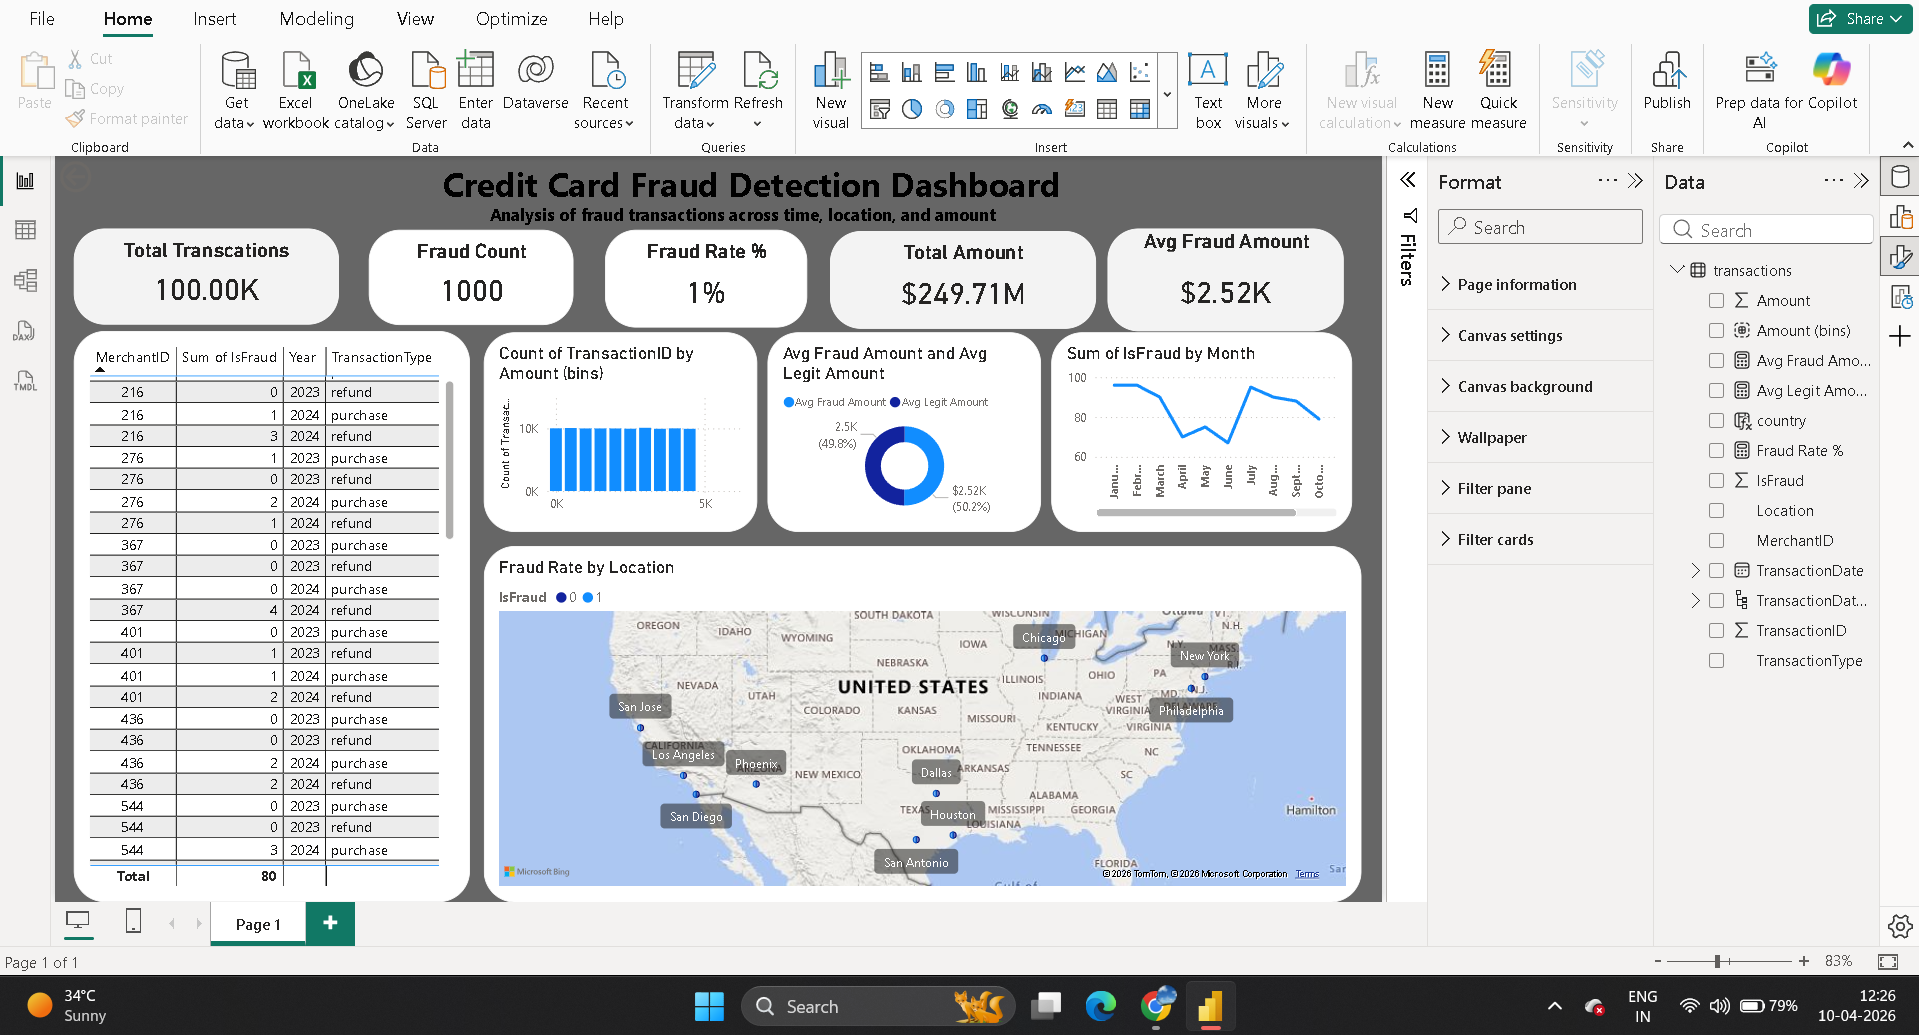

This screenshot's page, from the dashboard's own definition file:
{"tool":"powerbi","page":{"name":"Page 1","canvas":[1280,720],"ordinal":0},"visuals":[{"type":"card","title":"Fraud Rate %","fields":{"Values":["transactions.Fraud Rate %"]},"box":[531.2,71.3,195.5,94.7],"z":0},{"type":"card","title":"Total Transcations","fields":{"Values":["CountNonNull(transactions.TransactionID)"]},"box":[18.1,70,255.8,92.9],"z":1000},{"type":"card","title":"Fraud Count","fields":{"Values":["Sum(transactions.IsFraud)"]},"box":[302.5,71.3,198,92.2],"z":2000},{"type":"map","title":"Fraud Rate by Location ","fields":{"Category":["transactions.Location","transactions.country"],"Series":["transactions.IsFraud"]},"box":[413.8,376.4,853,331.8],"z":3000},{"type":"lineClusteredColumnComboChart","fields":{"Category":["transactions.Amount (bins)"],"Y":["CountNonNull(transactions.TransactionID)"]},"box":[413.8,170.1,264.2,193],"z":4000},{"type":"lineChart","fields":{"Category":["transactions.TransactionDate.Variation.Date Hierarchy.Month"],"Y":["Sum(transactions.IsFraud)"]},"box":[961.5,170.1,290.8,193],"z":5000},{"type":"actionButton","box":[0,0,100,40],"z":6000},{"type":"tableEx","fields":{"Values":["transactions.MerchantID","Sum(transactions.IsFraud)","transactions.TransactionDate.Variation.Date Hierarchy.Year","transactions.TransactionType"]},"box":[18.1,168.9,382.4,551.3],"z":7000},{"type":"card","title":"Total Amount","fields":{"Values":["Sum(transactions.Amount)"]},"box":[738.4,71.4,257,94.7],"z":8000},{"type":"card","title":"Avg Fraud Amount","fields":{"Values":["transactions.Avg Fraud Amount"]},"box":[1011.4,69.3,228,96.7],"z":9000},{"type":"donutChart","fields":{"Y":["transactions.Avg Fraud Amount","transactions.Avg Legit Amount"]},"box":[687.7,170.1,264.2,193],"z":10000},{"type":"textbox","box":[170.1,39.8,986.9,62.7],"z":11000},{"type":"textbox","box":[65.1,0,1214.9,70],"z":12000}]}

Visuals, with their boxes on the page's 1280x720 design canvas (x1, y1, x2, y2). These are canvas units, not pixel positions in the 1919x1035 screenshot, which may show the page scaled, cropped or inside an application window:
"Fraud Rate %" card: <region>531, 71, 727, 166</region>
"Total Transcations" card: <region>18, 70, 274, 163</region>
"Fraud Count" card: <region>302, 71, 500, 164</region>
"Fraud Rate by Location " map: <region>414, 376, 1267, 708</region>
lineClusteredColumnComboChart - transactions.Amount (bins) x CountNonNull(transactions.TransactionID): <region>414, 170, 678, 363</region>
lineChart - transactions.TransactionDate.Variation.Date Hierarchy.Month x Sum(transactions.IsFraud): <region>962, 170, 1252, 363</region>
actionButton: <region>0, 0, 100, 40</region>
tableEx - transactions.MerchantID x Sum(transactions.IsFraud): <region>18, 169, 400, 720</region>
"Total Amount" card: <region>738, 71, 995, 166</region>
"Avg Fraud Amount" card: <region>1011, 69, 1239, 166</region>
donutChart - transactions.Avg Fraud Amount x transactions.Avg Legit Amount: <region>688, 170, 952, 363</region>
textbox: <region>170, 40, 1157, 102</region>
textbox: <region>65, 0, 1280, 70</region>
